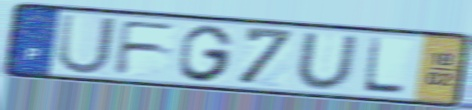7: (240, 24, 296, 87)
F: (111, 19, 180, 77)
G: (177, 23, 237, 84)
L: (359, 35, 408, 97)
U: (55, 11, 119, 76), (293, 31, 361, 92)
